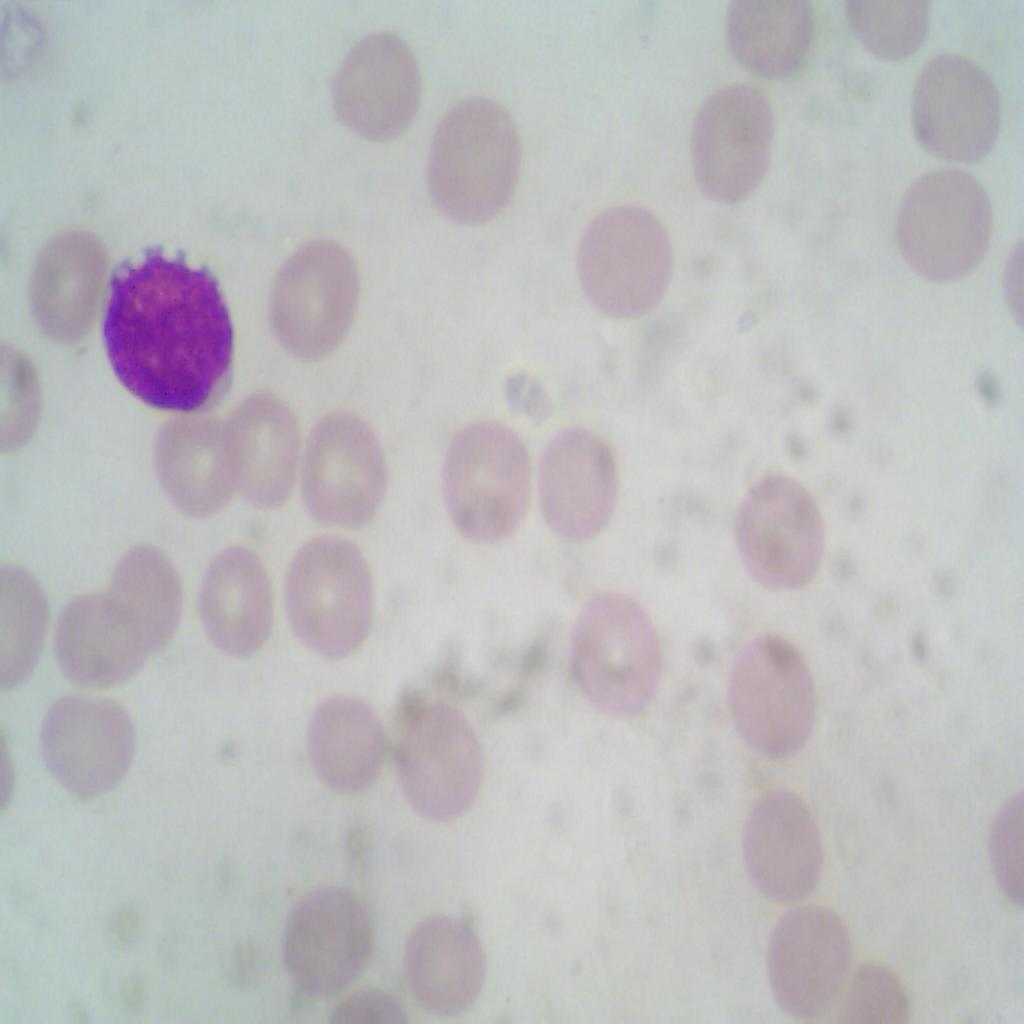Eritrosit: (564, 575, 668, 732), (421, 91, 541, 224), (562, 195, 679, 324), (258, 218, 359, 364), (706, 621, 812, 755), (726, 471, 829, 604), (902, 51, 1012, 175), (439, 404, 534, 545), (394, 698, 495, 824), (281, 528, 373, 666), (689, 77, 783, 212), (323, 26, 428, 145), (16, 222, 109, 351), (281, 874, 375, 1000), (38, 691, 134, 812), (886, 174, 990, 284), (190, 539, 270, 674), (744, 778, 829, 904), (304, 685, 395, 797), (226, 381, 302, 515), (534, 424, 616, 547), (406, 904, 494, 1016), (303, 408, 388, 518), (150, 412, 240, 514), (53, 595, 149, 688), (773, 905, 850, 1012), (722, 0, 822, 79), (114, 555, 184, 655), (838, 0, 935, 65)
Limfoblast: (101, 249, 241, 420)
